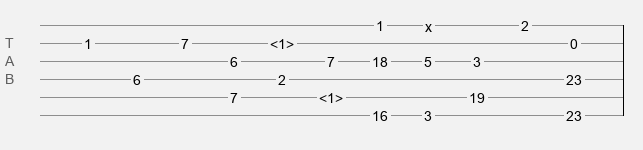0: (570, 36, 578, 46)
1: (84, 36, 92, 46), (376, 18, 384, 28)
16: (372, 108, 388, 118)
18: (372, 54, 388, 64)
19: (469, 90, 485, 100)
2: (278, 72, 286, 82), (521, 18, 529, 28)
23: (566, 108, 582, 118), (566, 72, 582, 82)
3: (424, 108, 432, 118), (473, 54, 481, 64)
5: (424, 54, 432, 64)
6: (133, 72, 141, 82), (230, 54, 238, 64)
7: (181, 36, 189, 46), (230, 90, 238, 100), (327, 54, 335, 64)
harmonic: (270, 36, 294, 46), (319, 90, 343, 100)
x: (425, 19, 432, 27)
